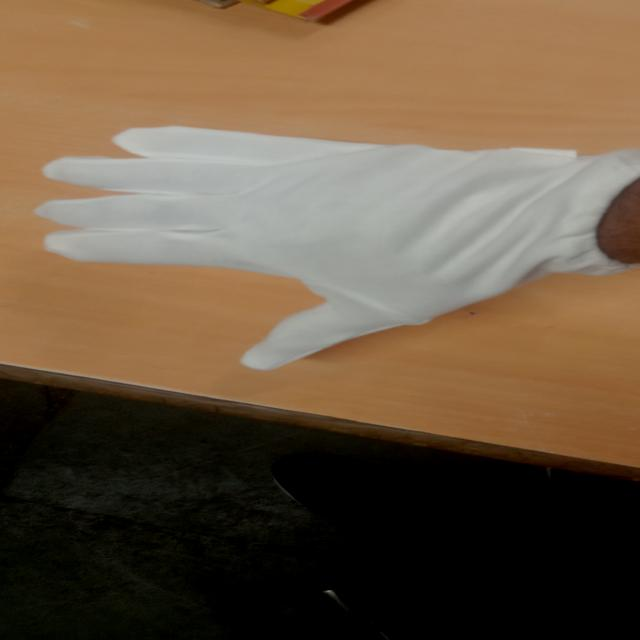glove: (34, 118, 640, 378)
